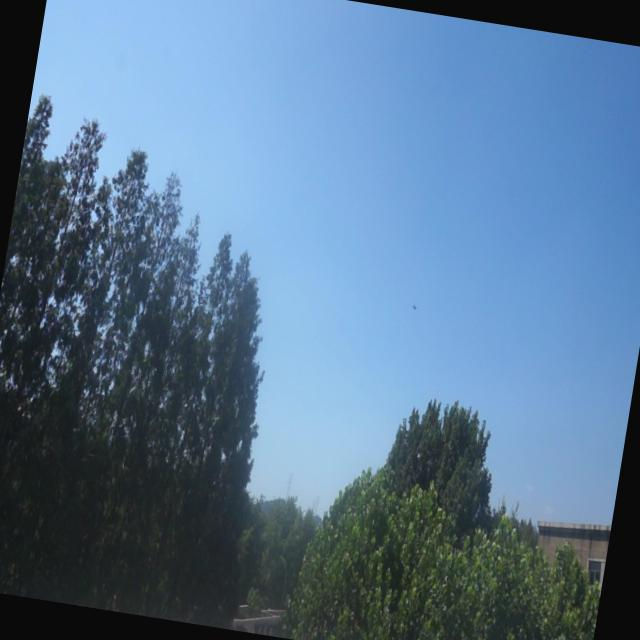drone: (408, 297, 422, 318)
